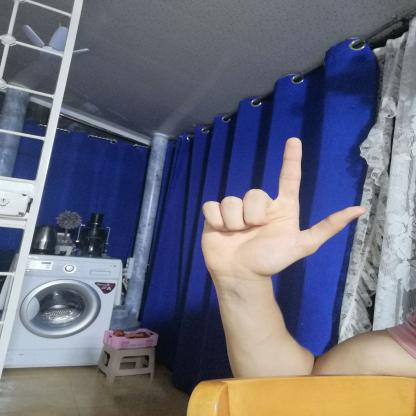LAAM: (183, 126, 381, 298)
